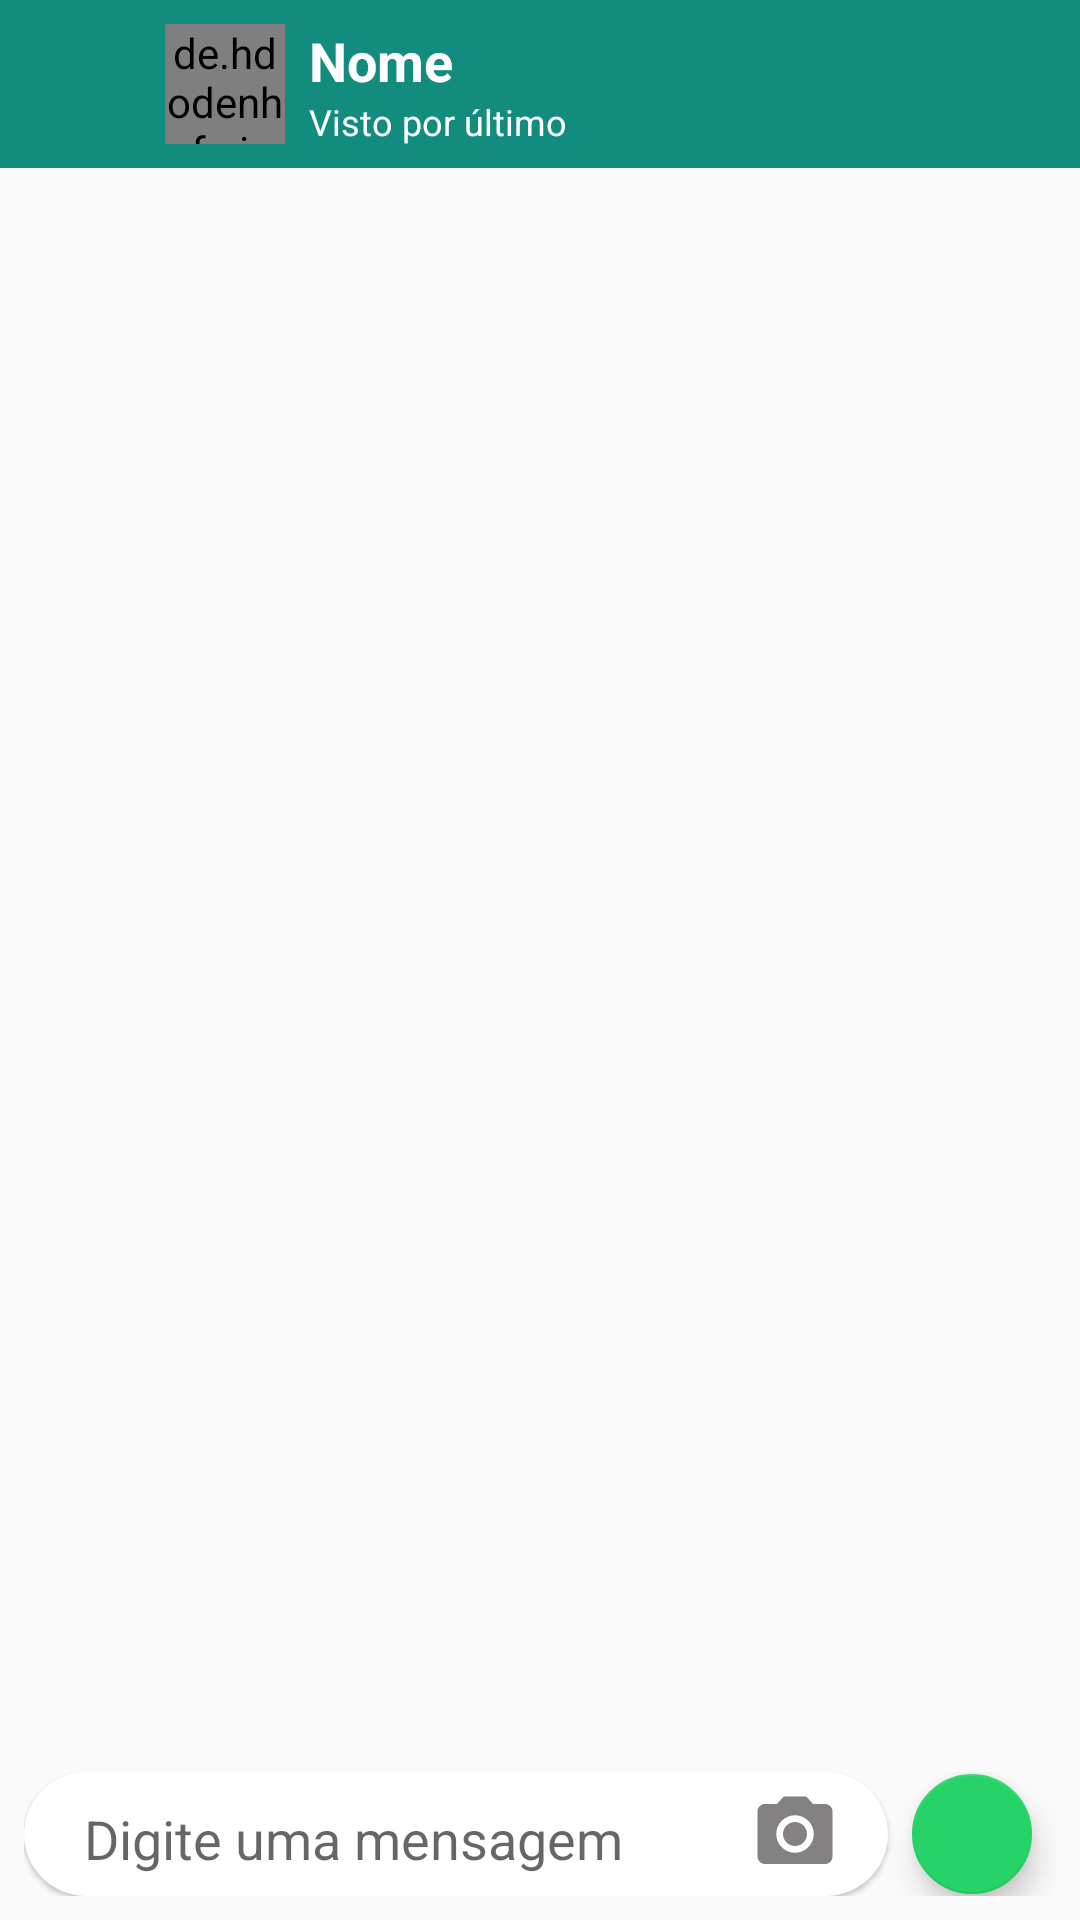

Locate icon controls on the screen. Image size 1080px x 1920px, boxes as (x1, y1, x2, y2).
camera cinza: (757, 1796, 833, 1864)
